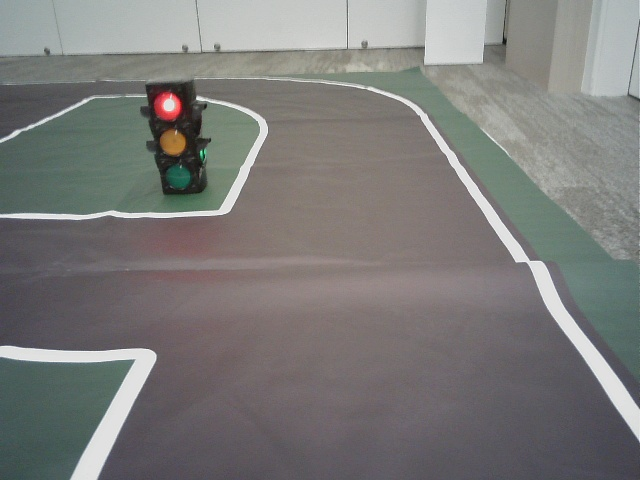red: (152, 88, 194, 192)
